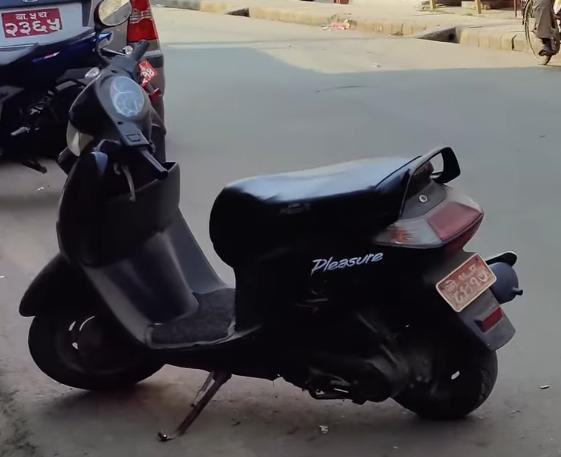scooter: (20, 34, 539, 435)
